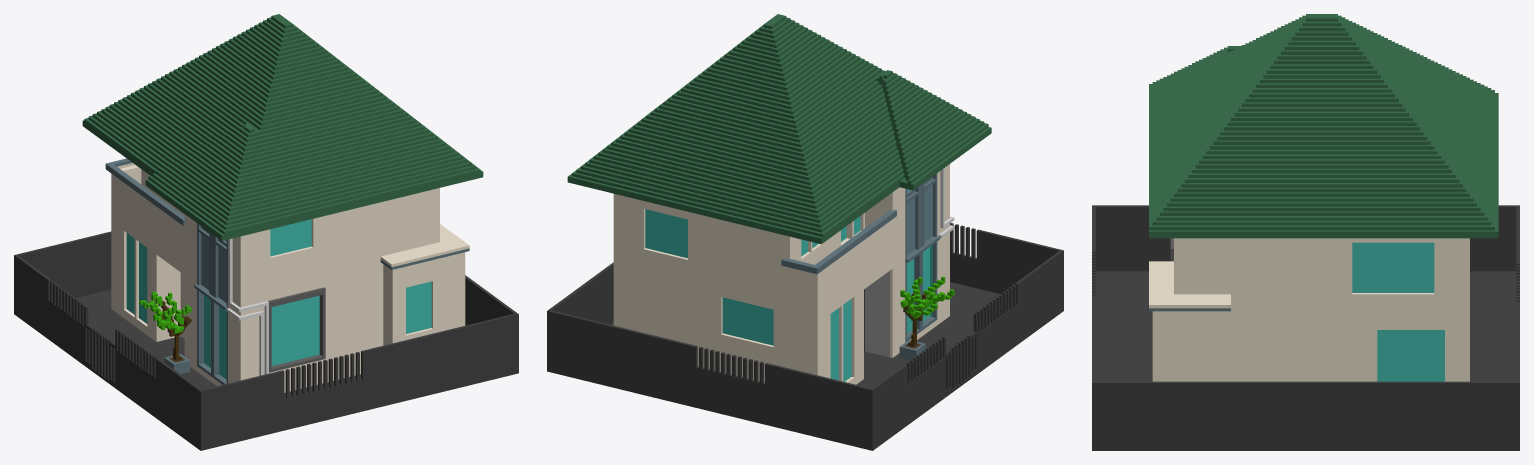
File: House.obj
3 views of the same model, side by side, from view 1: azimuth 30°, elevation 25°; view 2: azimuth 150°, elevation 25°; view 3: azimuth 270°, elevation 25° (orthographic). The views are drawn at different scales.
Bounding box in the file's own units: 11.8 × 11.1 × 12.
Materials: 1 (1 with a texture image).
